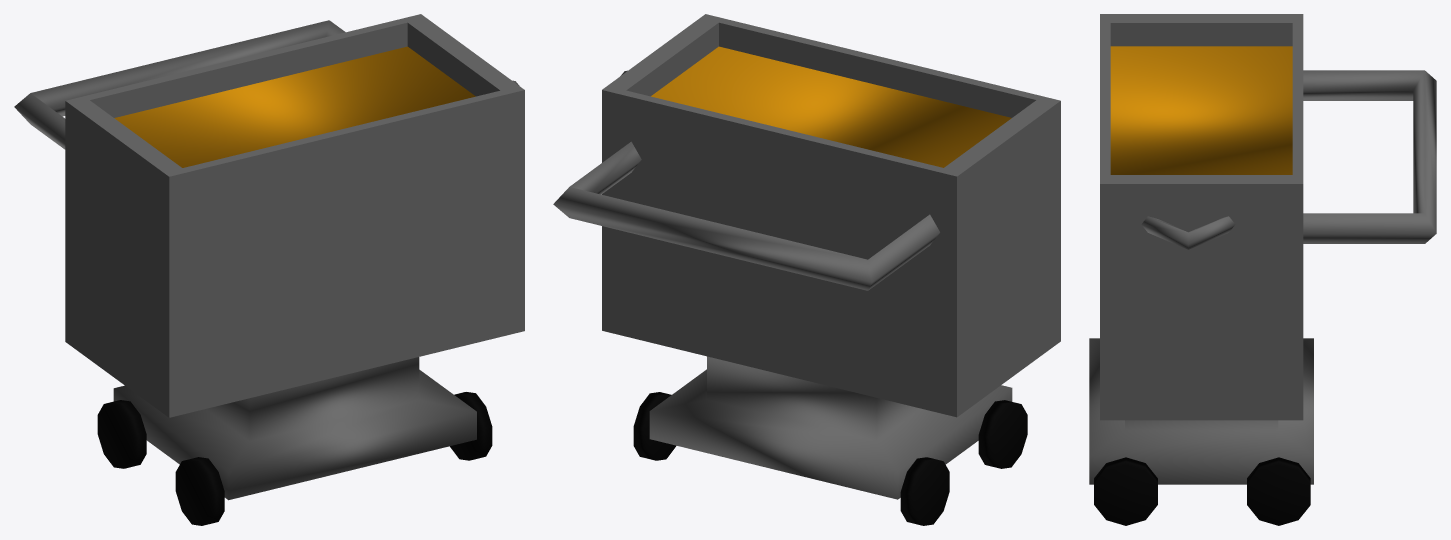
File: catalka.fbx
3 views of the same model, side by side, from view 1: azimuth 30°, elevation 25°; view 2: azimuth 150°, elevation 25°; view 3: azimuth 270°, elevation 25° (orthographic). The views are drawn at different scales.
Parts seen in each view (by area): view 1: Цилиндр.003; view 2: Цилиндр.003; view 3: Цилиндр.003.
Boxes of the visible parts, box(x1,y1,x2,y2) form: Цилиндр.003: box(14, 14, 524, 525); Цилиндр.003: box(553, 14, 1060, 525); Цилиндр.003: box(1089, 14, 1436, 525).
Bounding box in the file's own units: 469 × 413 × 363.
